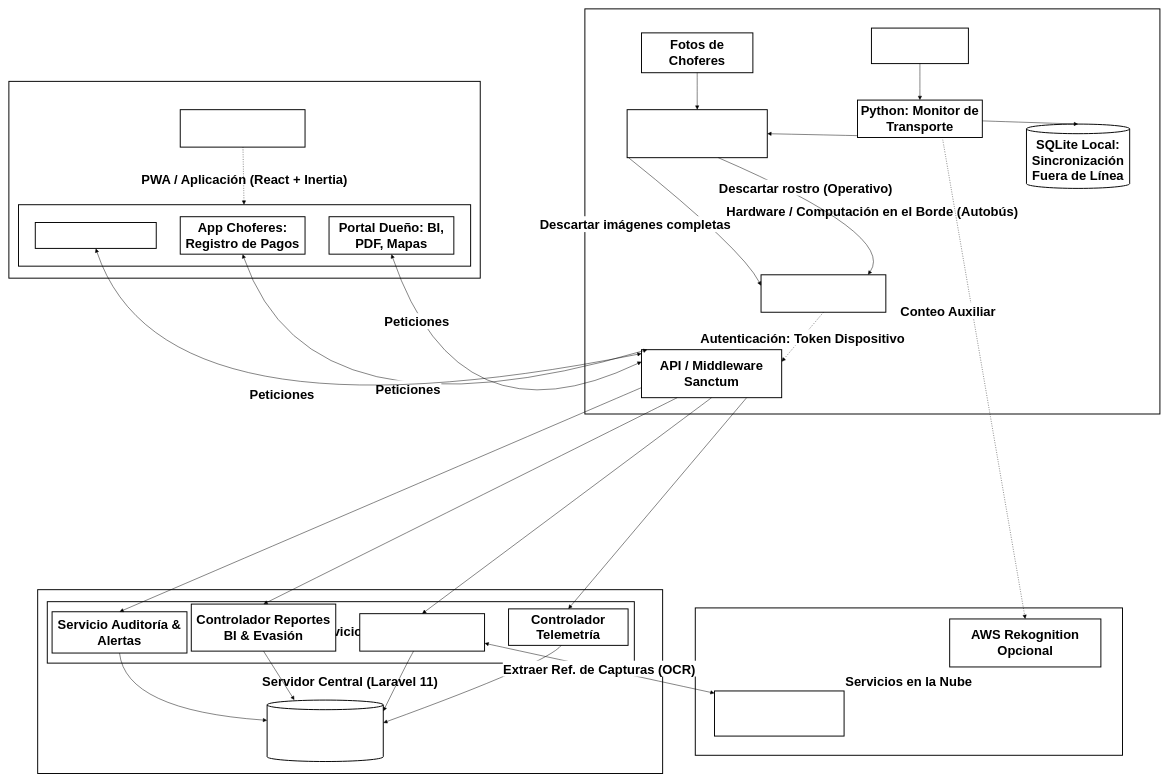
Some shapes in this 1168 by 782 pixel diagram are drawn without their labels. Each missing label, with the centre of its shape:
"Base de Datos MySQL" goes at [325,730].
"Controlador Ingresos & Gemini" goes at [422,632].
"Cámara Local" goes at [920,45].
"Google Gemini AI API" goes at [779,713].
"Manifest.json - PWA Instalable" goes at [242,128].
"MediaPipe: Conteo Local" goes at [697,133].
"Portal Admin: CRUD Global" goes at [95,235].
"Python: Cliente de Sincronización" goes at [823,293].
